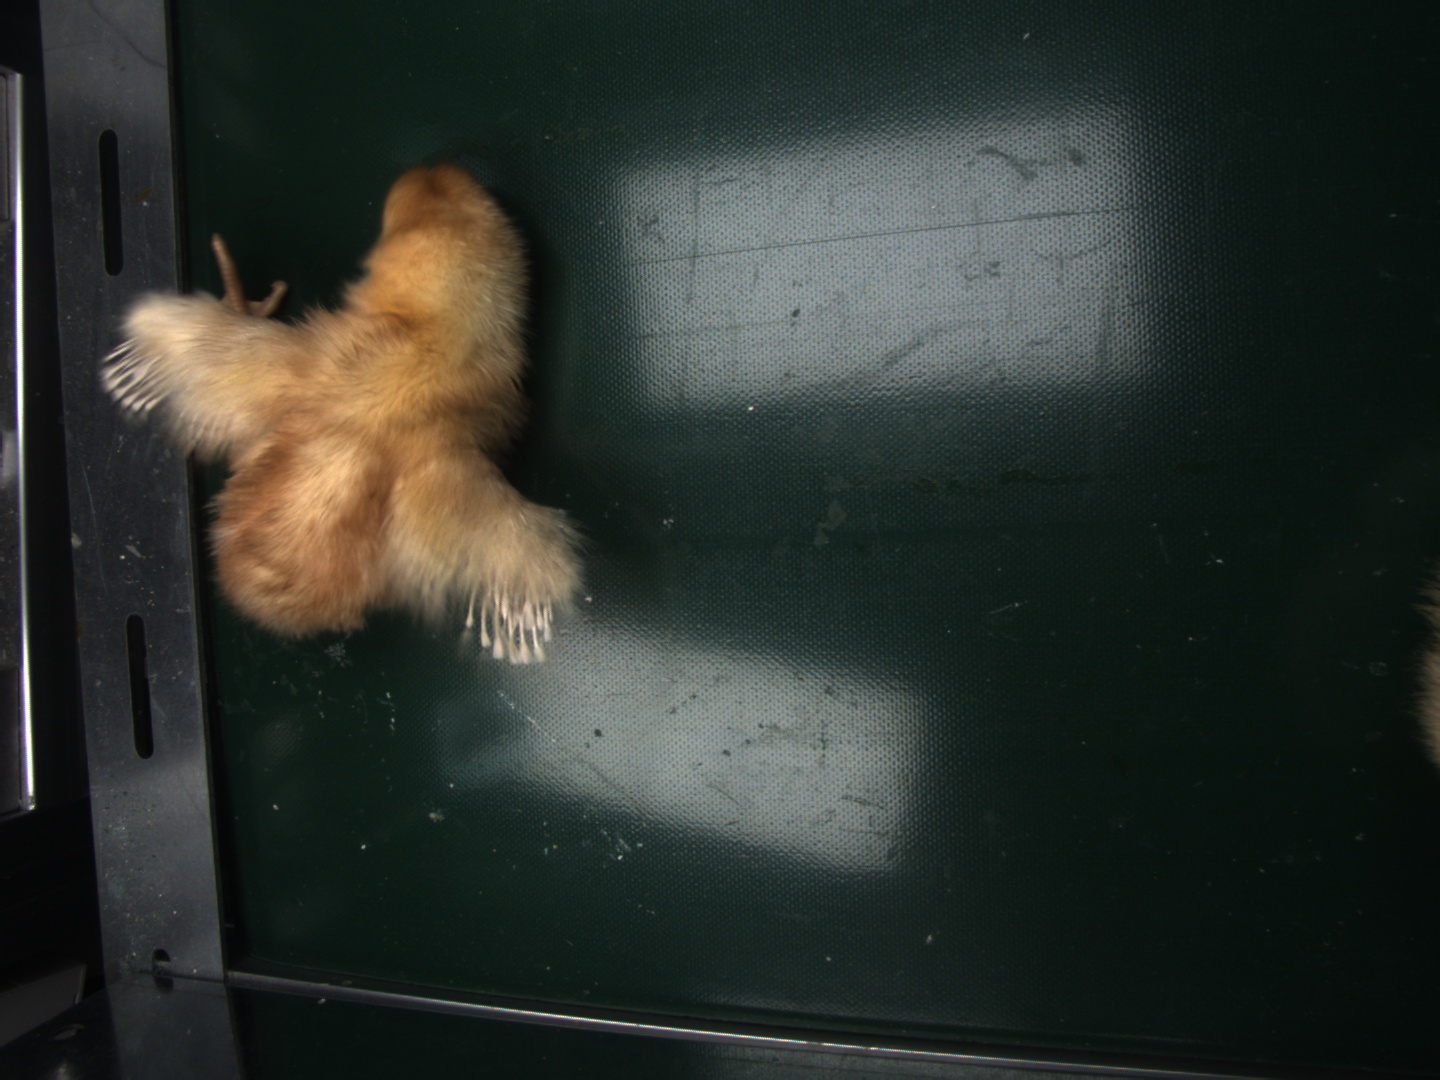female: (469, 576, 558, 664)
